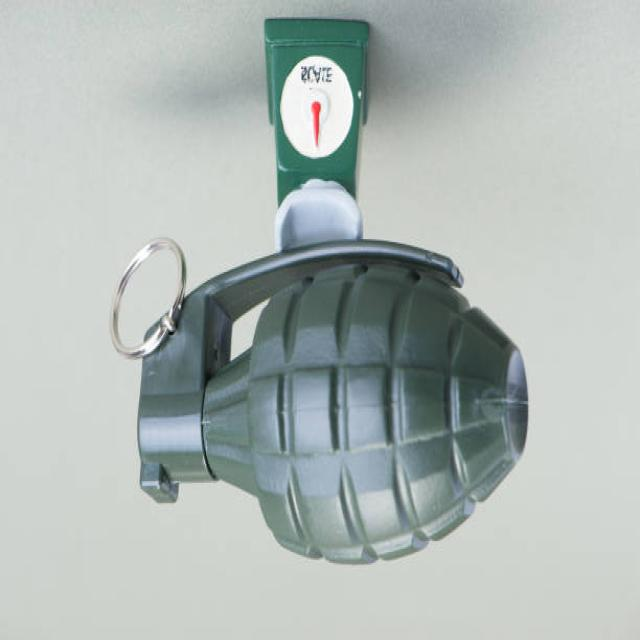grenade: (104, 234, 537, 571)
